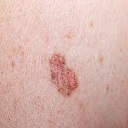Carcinoma: (46, 50, 82, 100)
